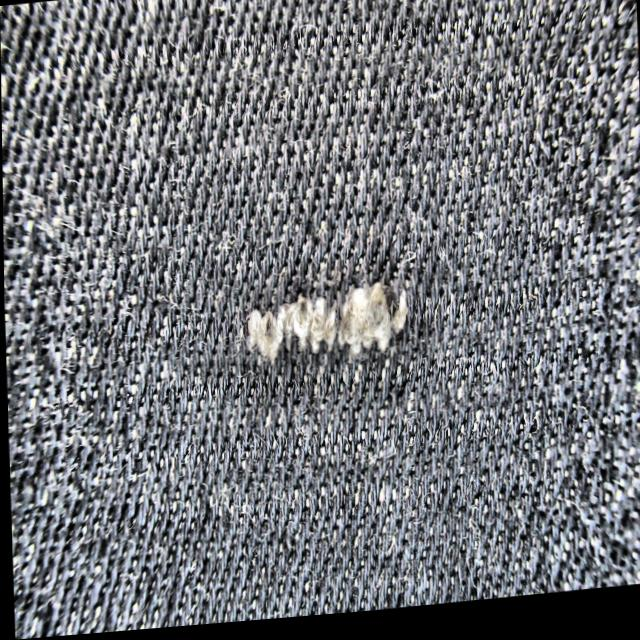Hole: (238, 276, 411, 364)
